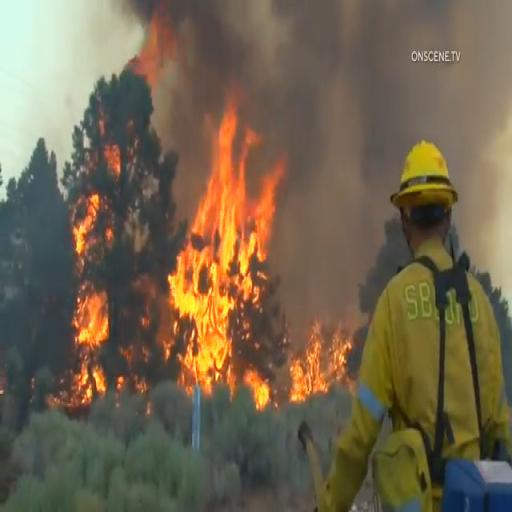fire: (164, 111, 289, 385), (64, 231, 114, 393)
smoke: (282, 16, 396, 142)
